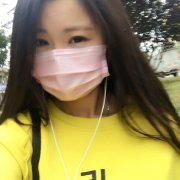OK: (26, 20, 107, 101)
